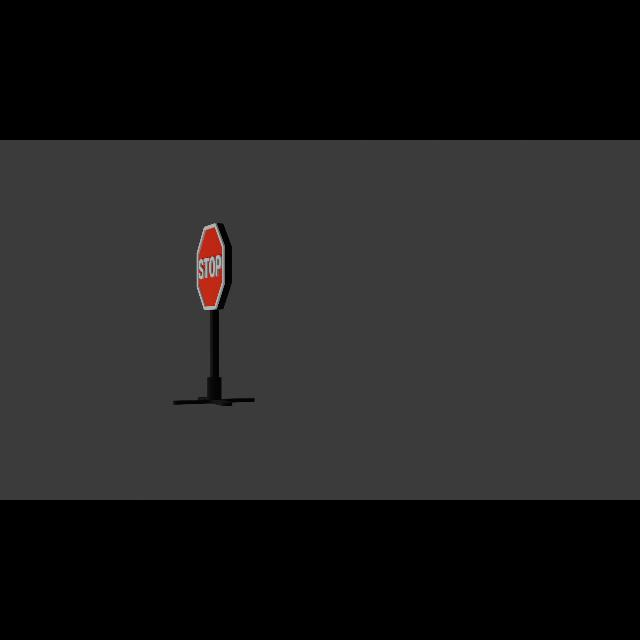sign_stop: (196, 223, 232, 311)
